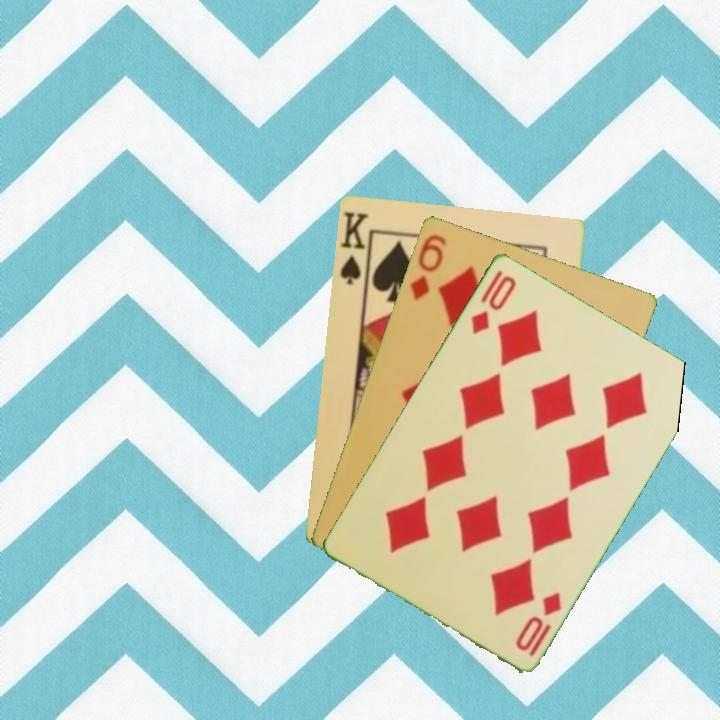10d: (511, 588, 565, 660), (466, 266, 520, 337)
6d: (406, 230, 449, 303)
Ks: (336, 207, 374, 290)
